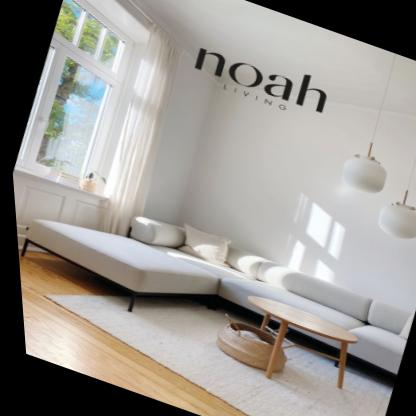Curtains: (97, 30, 178, 236)
Sofa: (29, 184, 411, 390)
Window: (0, 0, 192, 218)
Wooden floor: (15, 250, 241, 416)
